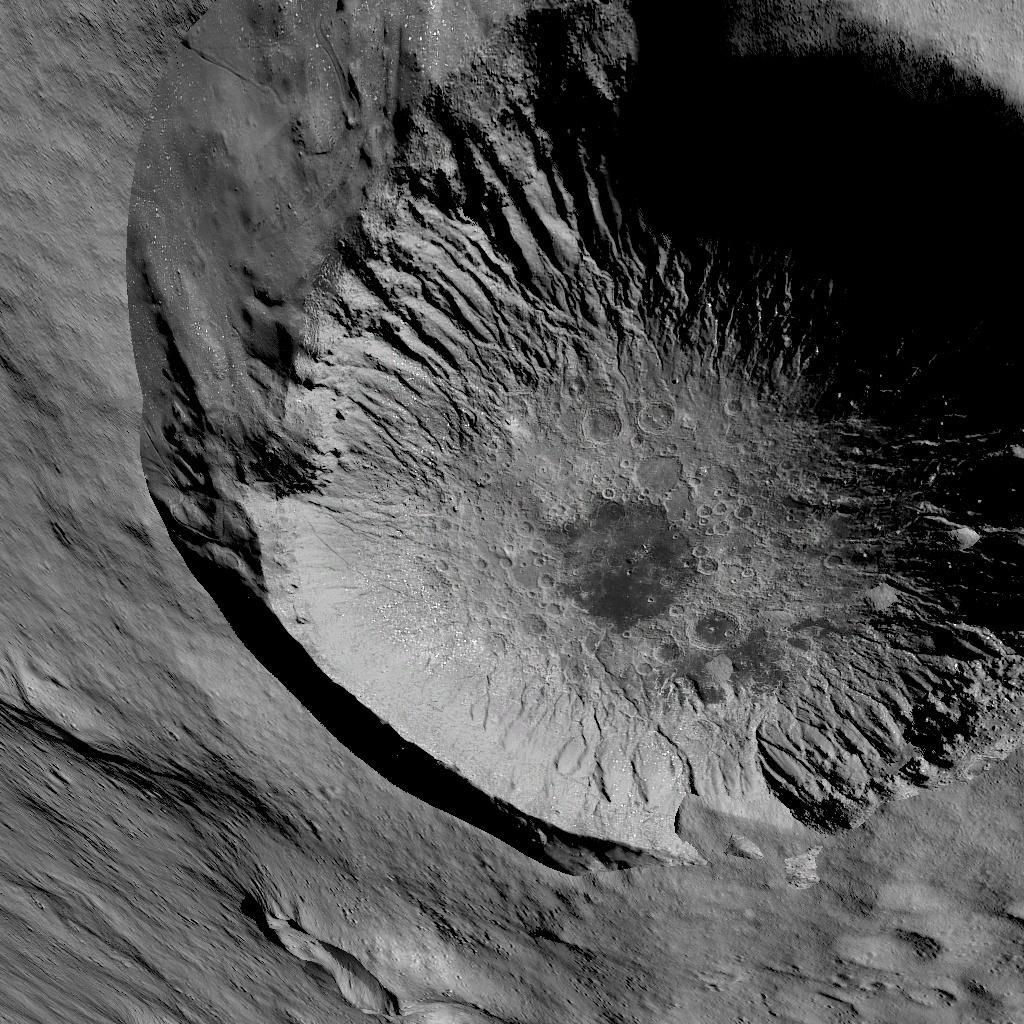Crater: (112, 2, 1023, 878), (199, 895, 417, 1024)
Plan surface: (480, 917, 1024, 1024)
